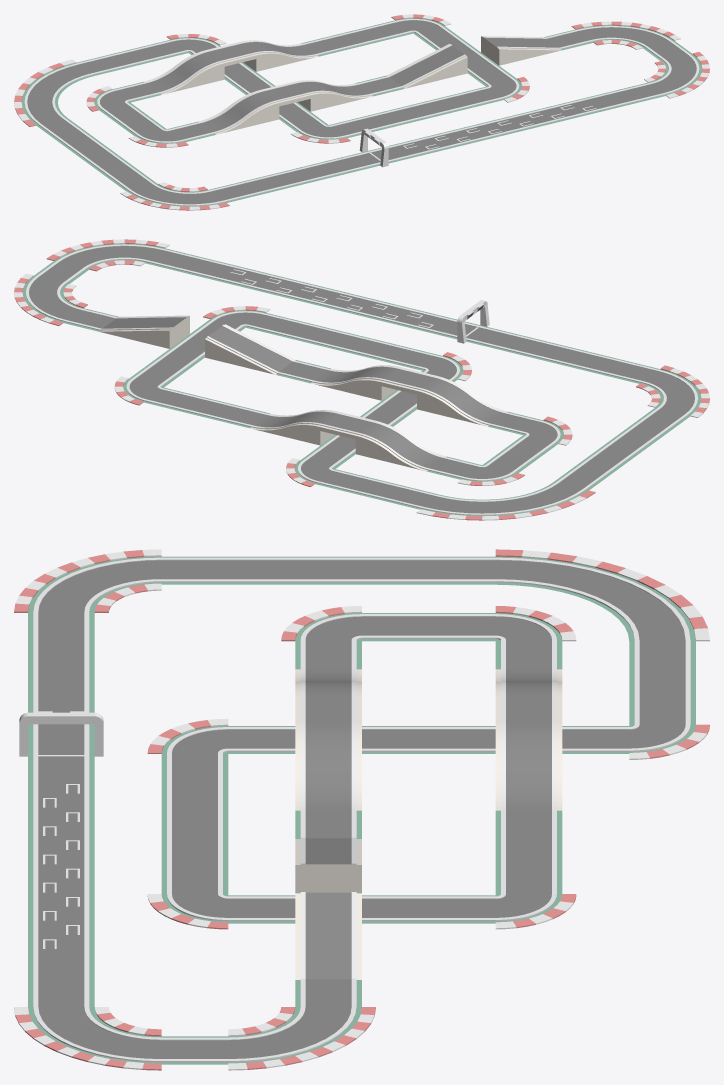
The model's file is kenny_track2.glb.
3 renders of one model, top to bottom at view 1: azimuth 30°, elevation 25°; view 2: azimuth 150°, elevation 25°; view 3: azimuth 270°, elevation 25°, orthographic. The views are drawn at different scales.
Parts seen in each view (by area): view 1: roadCornerLarge(Clone).005; view 2: roadCornerLarge(Clone).005; view 3: roadCornerLarge(Clone).005.
Boxes of the visible parts, bbox=[...] form: roadCornerLarge(Clone).005: bbox=[14, 14, 709, 210]; roadCornerLarge(Clone).005: bbox=[14, 239, 709, 520]; roadCornerLarge(Clone).005: bbox=[14, 549, 709, 1070].
Size of the model in its own units: 111 by 4.01 by 62.52.
